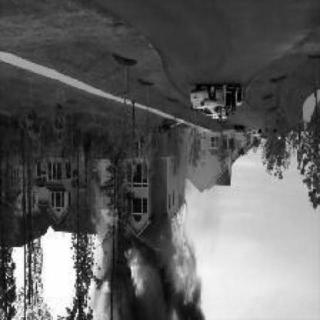Smoke: (88, 234, 166, 320)
